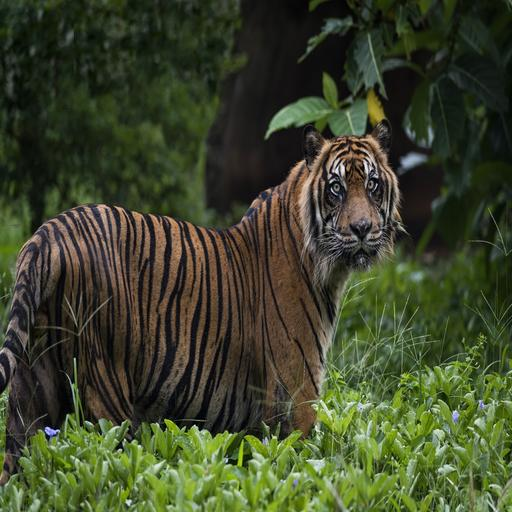Tiger: (0, 128, 416, 470)
